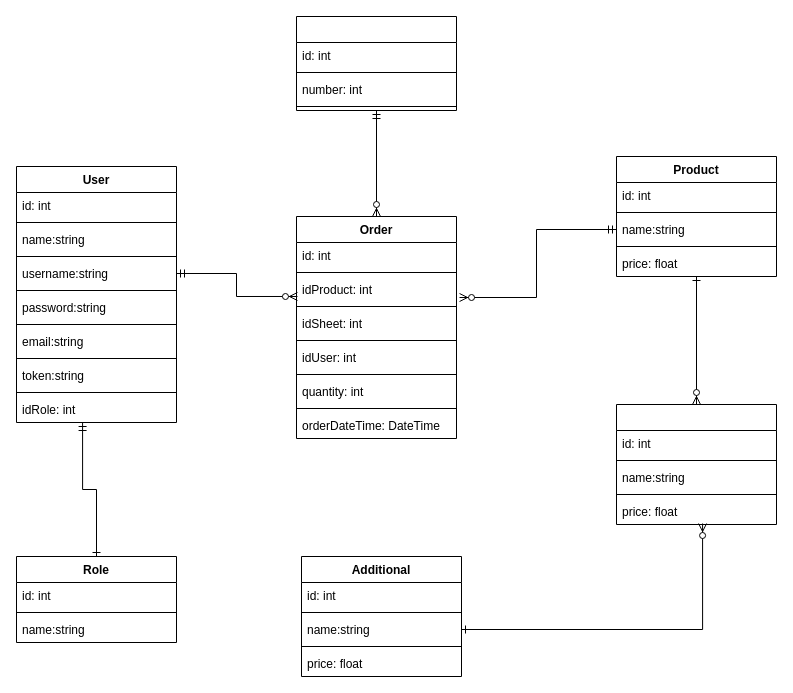
Image size: 793x693. Some labels were removed from this diagram. The shapes that lost their labels are listed below. From the top down, each one's box as (x1, y1, x2, y2) in pixels, then its label:
(296, 16, 456, 110): Sheet
(616, 404, 776, 524): Product_Additional
